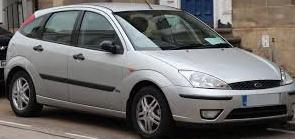Crossovers: (5, 4, 295, 138)
